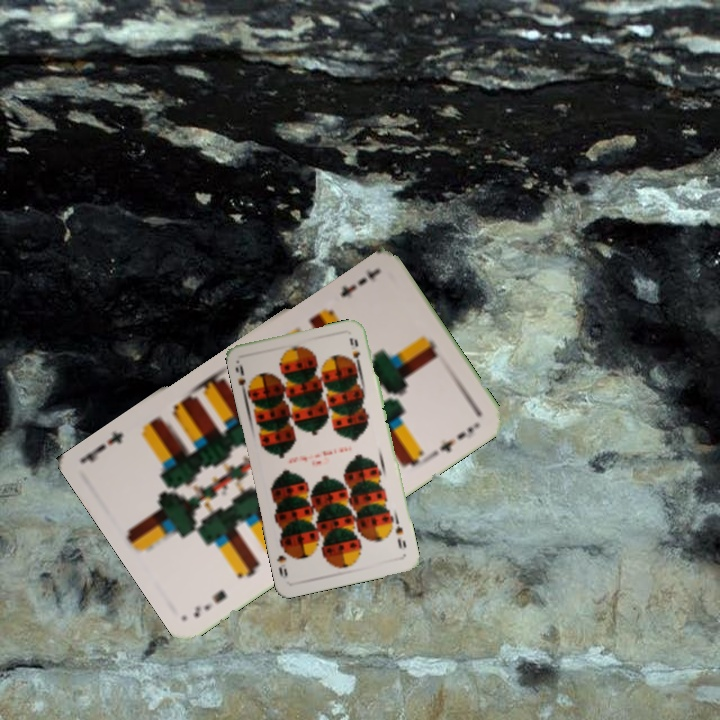E7: (189, 586, 229, 621), (337, 273, 370, 301)
S9: (231, 358, 255, 398), (388, 517, 409, 551)
